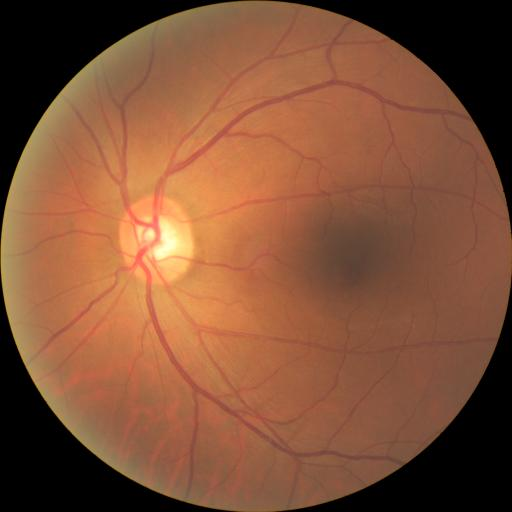Optic Cup: (137, 216, 178, 262)
Optic Disc: (119, 196, 193, 284)
